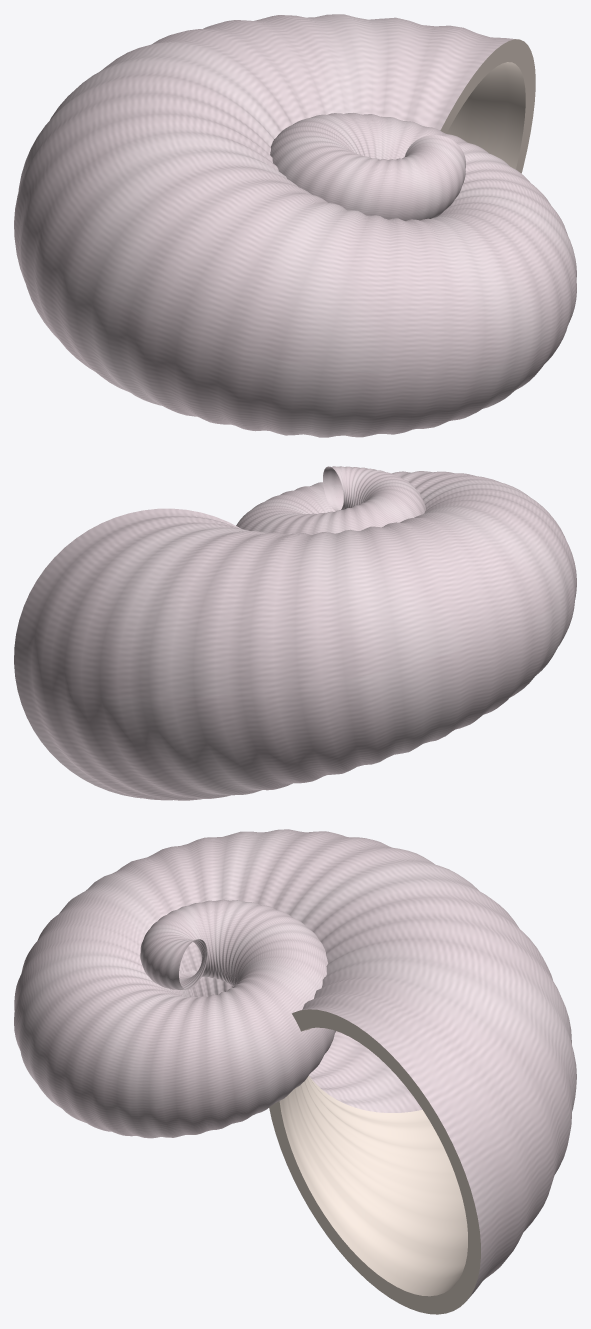
The model's file is moon-snail.glb.
3 renders of one model, top to bottom at view 1: azimuth 30°, elevation 25°; view 2: azimuth 150°, elevation 25°; view 3: azimuth 270°, elevation 25°, orthographic. The views are drawn at different scales.
Visible parts, largest first — view 1: moon-snail.001; view 2: moon-snail.001; view 3: moon-snail.001.
Boxes of the visible parts, <box> form: moon-snail.001: <box>14,14,576,437</box>; moon-snail.001: <box>14,466,576,800</box>; moon-snail.001: <box>14,829,576,1314</box>.
Bounding box in the file's own units: 1.66 × 1.08 × 1.62.
Materials: 3 (1 with a texture image).
